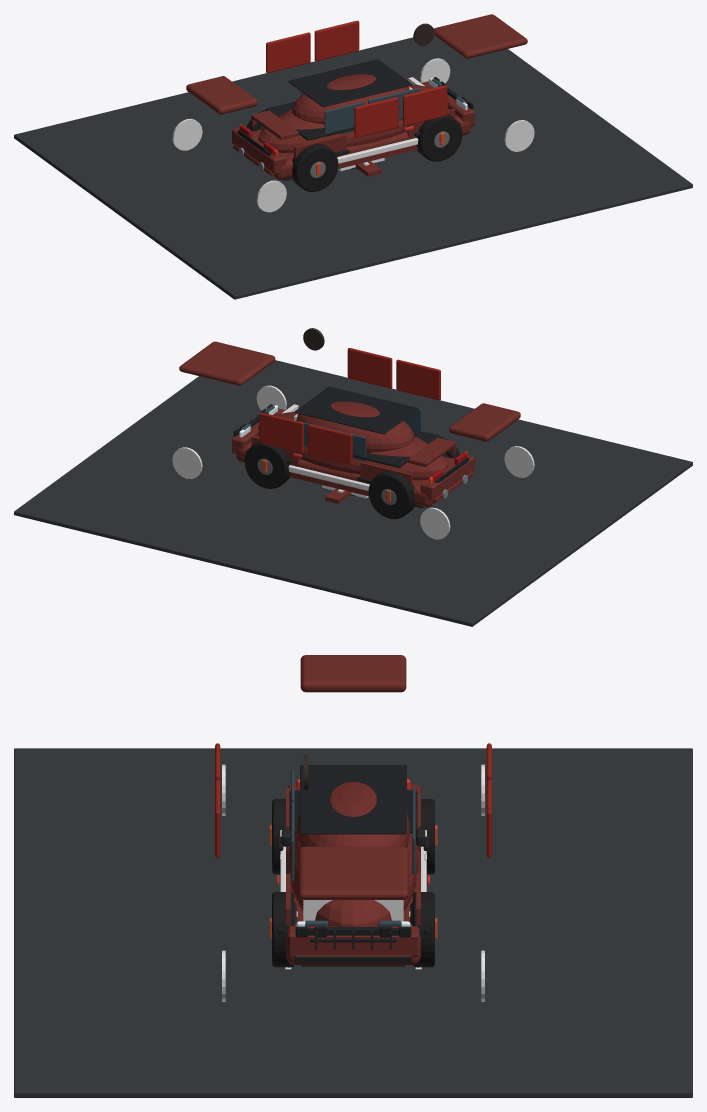
Rendered from preview.glb.
The picture shows the model from 3 angles, top to bottom: view 1: azimuth 30°, elevation 25°; view 2: azimuth 150°, elevation 25°; view 3: azimuth 270°, elevation 25°; orthographic projection. The views are drawn at different scales.
Visible parts, largest first — view 1: Ground, Roof_Black_Panel, Hood, Lower_Body, Trunk, Roof_Cabin, Rear_L_Wheel, Front_L_Wheel, R_Front_Door, R_Rear_Door, L_Front_Door, L_Rear_Door (+12 smaller); view 2: Ground, Roof_Black_Panel, Hood, Roof_Cabin, Lower_Body, Trunk, Rear_R_Wheel, Front_R_Wheel, L_Front_Door, L_Rear_Door, R_Front_Door, R_Rear_Door (+11 smaller); view 3: Ground, Roof_Black_Panel, Hood, Trunk, Roof_Cabin, Lower_Body, Front_Bumper, Front_L_Wheel, Front_R_Wheel, Chassis, Front_Splitter, Rear_R_Wheel (+2 smaller).
Part boxes in pixels (bbox=[...]): Ground: bbox=[14, 35, 692, 299]; Roof_Black_Panel: bbox=[288, 59, 412, 107]; Hood: bbox=[434, 14, 527, 58]; Lower_Body: bbox=[258, 84, 448, 152]; Trunk: bbox=[186, 76, 257, 114]; Roof_Cabin: bbox=[292, 74, 409, 124]; Rear_L_Wheel: bbox=[292, 143, 338, 191]; Front_L_Wheel: bbox=[416, 114, 462, 161]; R_Front_Door: bbox=[314, 20, 359, 61]; R_Rear_Door: bbox=[266, 32, 310, 73]; L_Front_Door: bbox=[403, 85, 447, 125]; L_Rear_Door: bbox=[354, 97, 398, 137]; Ground: bbox=[14, 360, 692, 626]; Roof_Black_Panel: bbox=[294, 386, 418, 434]; Hood: bbox=[179, 341, 275, 385]; Roof_Cabin: bbox=[296, 401, 414, 452]; Lower_Body: bbox=[258, 412, 448, 480]; Trunk: bbox=[449, 403, 520, 441]; Rear_R_Wheel: bbox=[368, 471, 414, 519]; Front_R_Wheel: bbox=[244, 441, 290, 488]; L_Front_Door: bbox=[347, 348, 392, 388]; L_Rear_Door: bbox=[396, 359, 440, 400]; R_Front_Door: bbox=[259, 412, 303, 453]; R_Rear_Door: bbox=[308, 424, 352, 465]; Ground: bbox=[14, 748, 692, 1097]; Roof_Black_Panel: bbox=[300, 765, 406, 834]; Hood: bbox=[298, 846, 408, 899]; Trunk: bbox=[300, 655, 406, 692]; Roof_Cabin: bbox=[297, 782, 409, 847]; Lower_Body: bbox=[288, 833, 418, 926]; Front_Bumper: bbox=[287, 926, 419, 957]; Front_L_Wheel: bbox=[272, 892, 293, 967]; Front_R_Wheel: bbox=[413, 892, 434, 967]; Chassis: bbox=[286, 838, 420, 965]; Front_Splitter: bbox=[295, 956, 411, 962]; Rear_R_Wheel: bbox=[415, 799, 434, 874].
Size of what is drawn, in the model's own units: 12 by 3.81 by 10.
